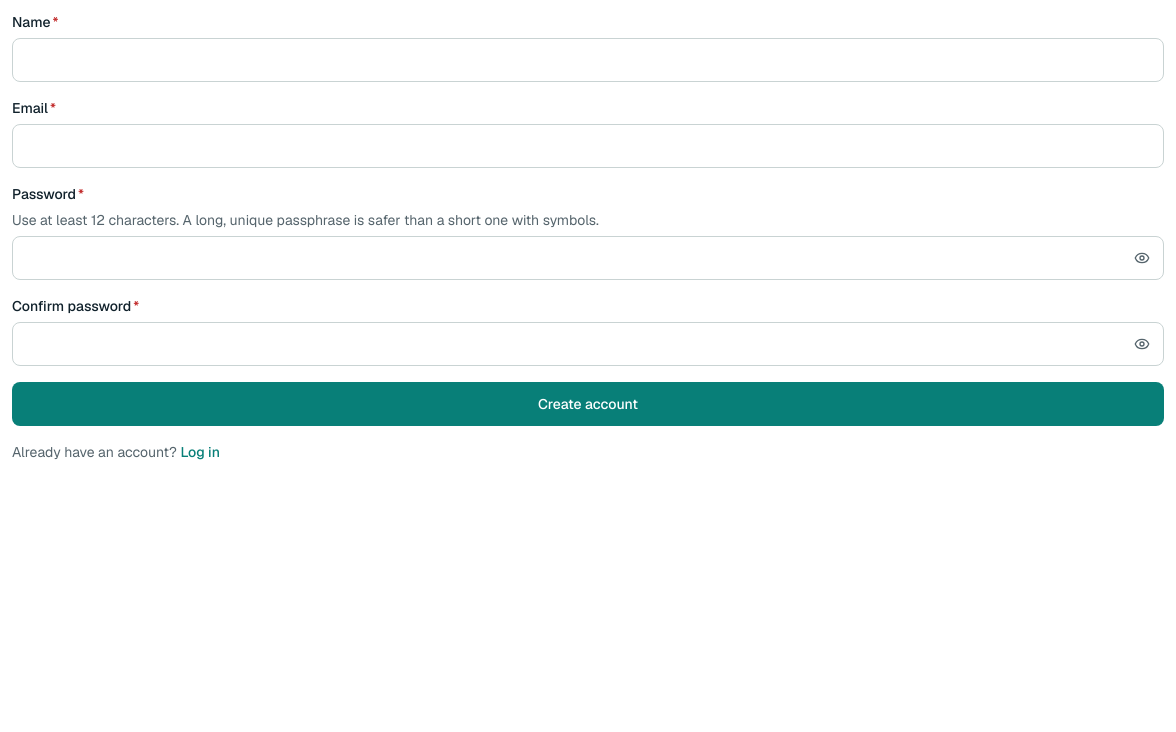
Test: SignupForm › renders a safe, already-normalised error message in an accessible alert region
Type "Asha Rao" into the field labelled "Name" at [588, 60], box [12,38,1164,82]
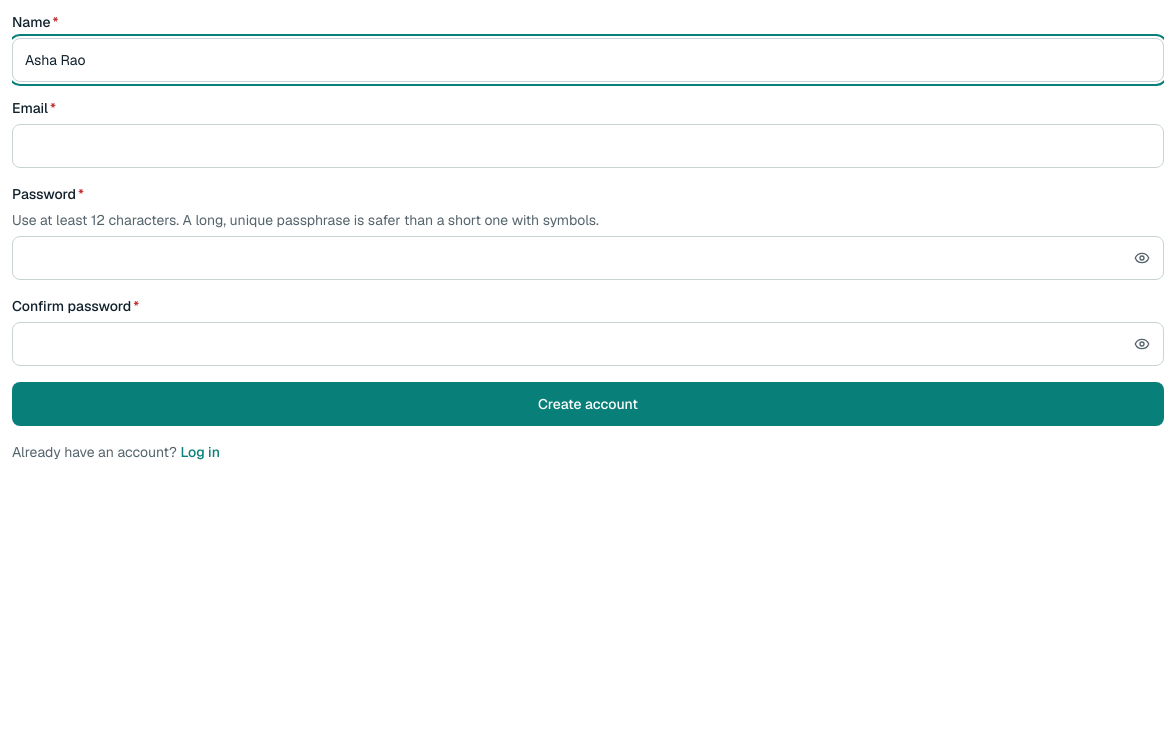
Type "asha@example.com" into the field labelled "Email" at [588, 146], box [12,124,1164,168]
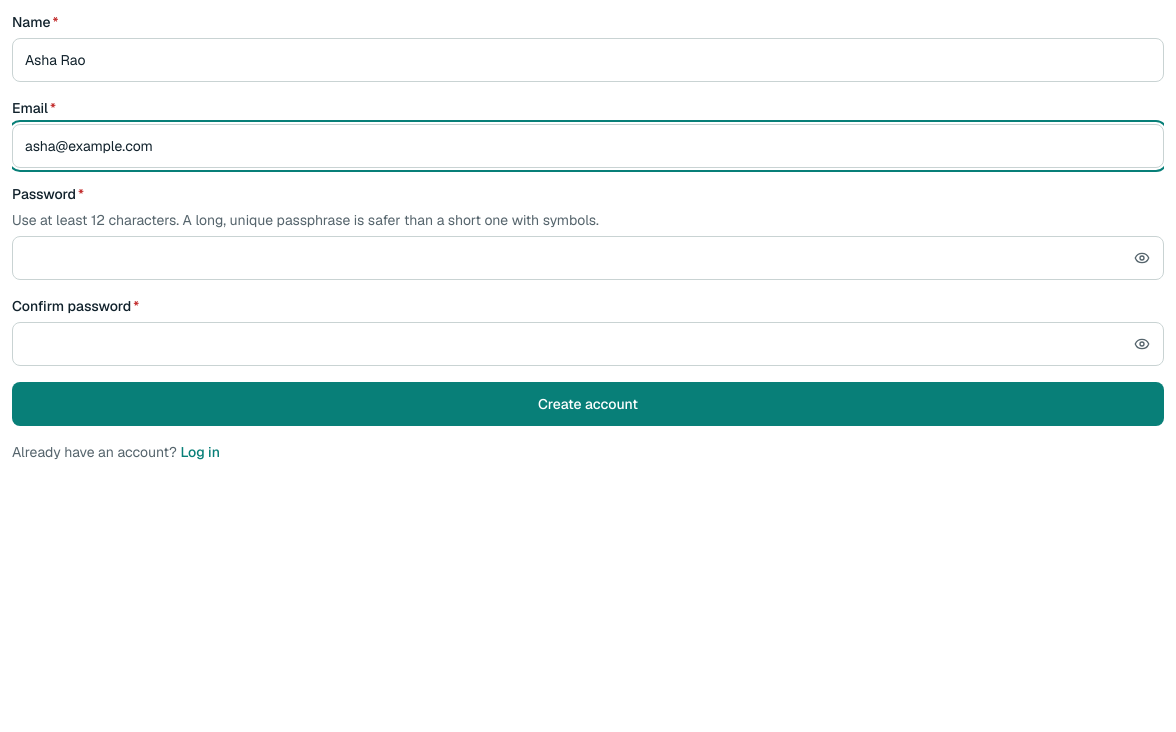
Type "correct horse battery staple" into the password field labelled "Password" at [588, 258], box [12,236,1164,280]
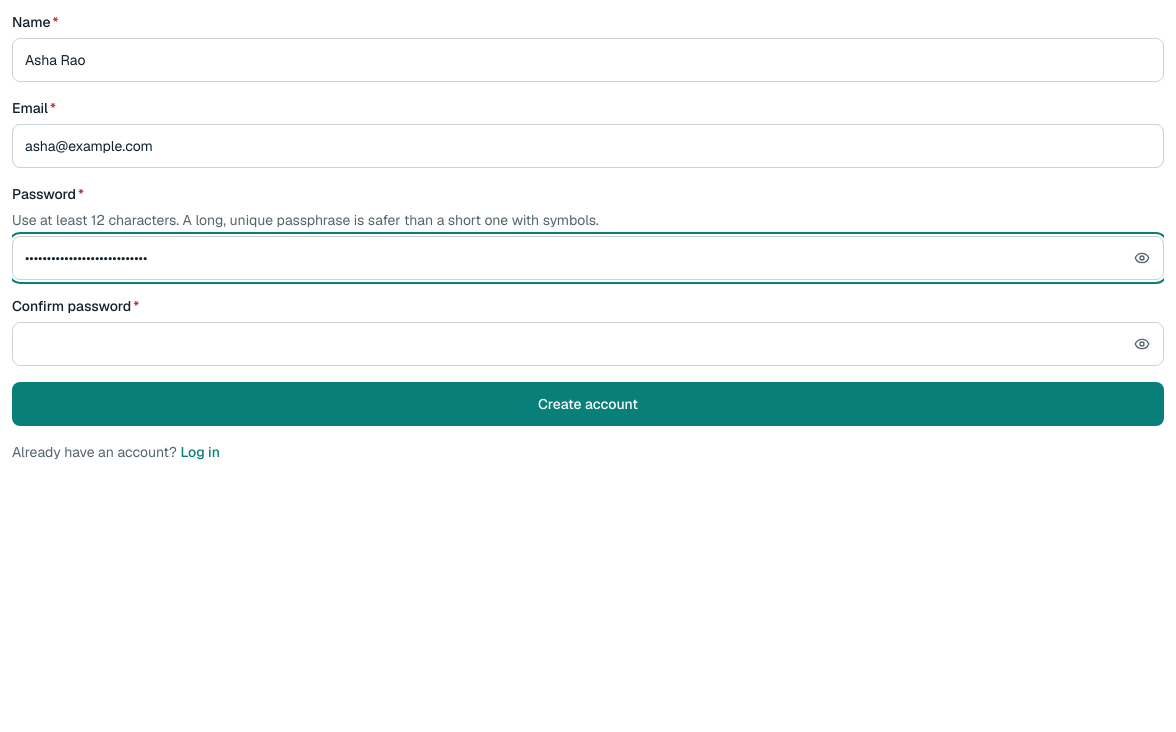
Type "correct horse battery staple" into the password field labelled "Confirm password" at [588, 344], box [12,322,1164,366]
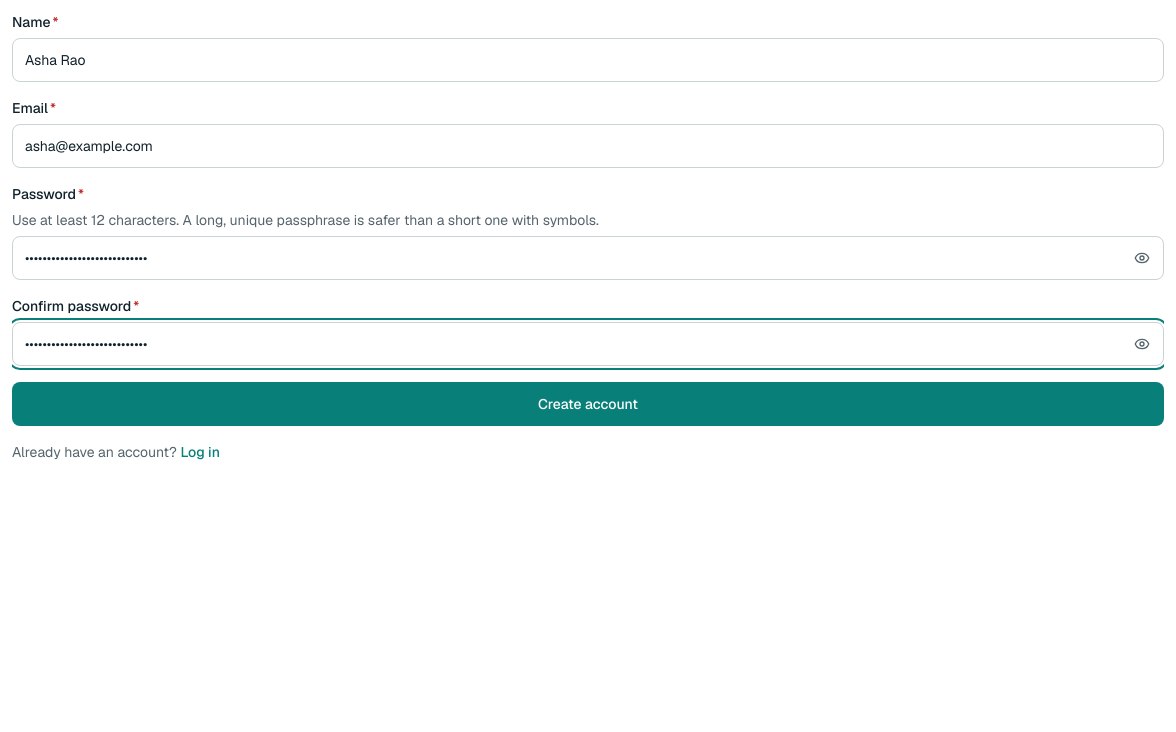
Click the button "Create account" at [588, 404], box [12,382,1164,426]
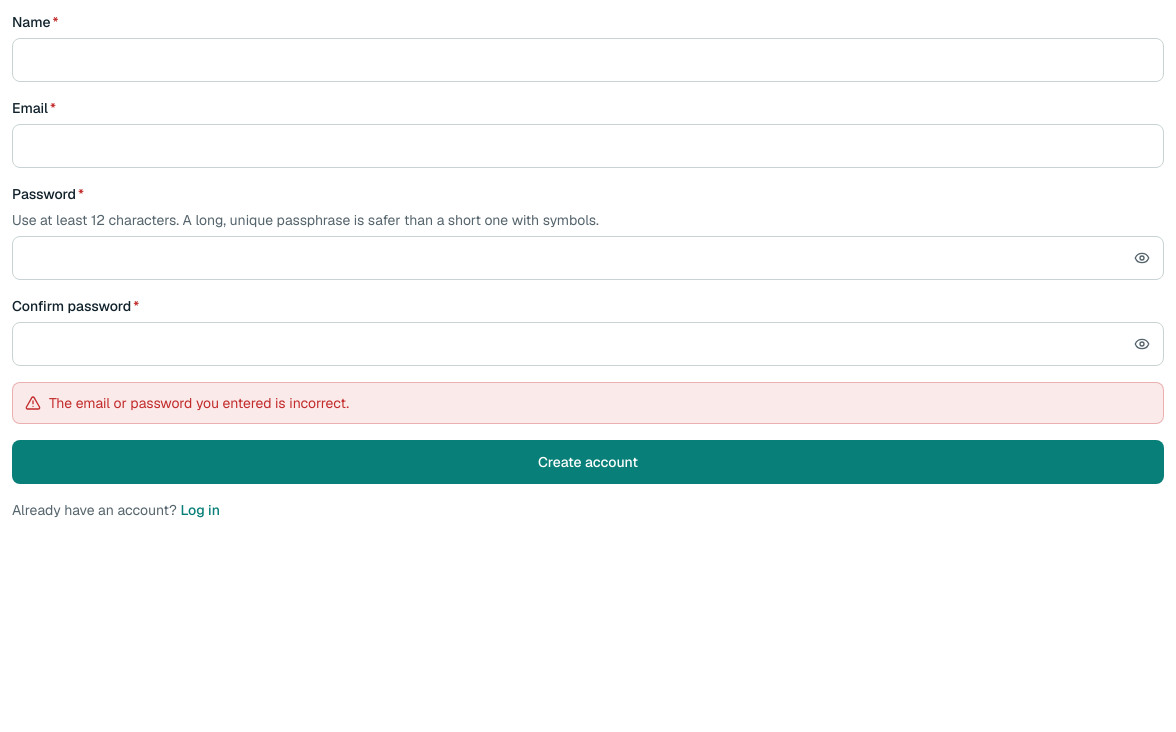
Expected: the message reads "The email or password you entered is incorrect.", [49,394,349,412]
